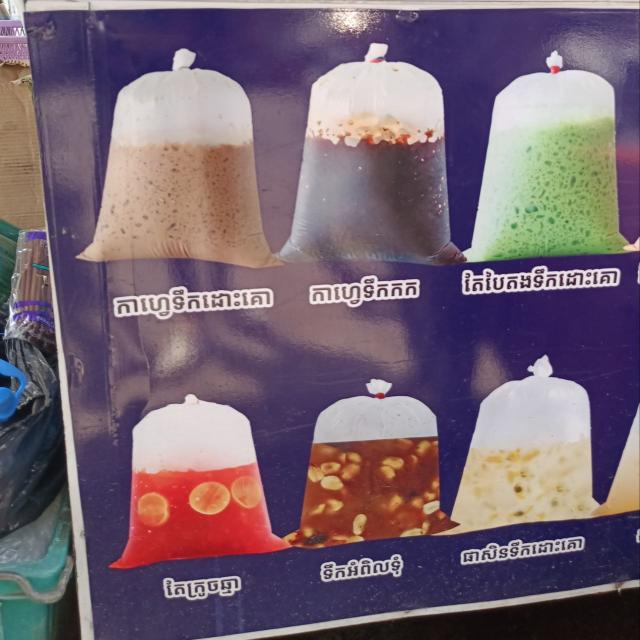Yolov11kh: (102, 276, 277, 328), (452, 526, 588, 578), (457, 260, 623, 301), (303, 269, 424, 315), (314, 548, 407, 595), (155, 566, 245, 604)
